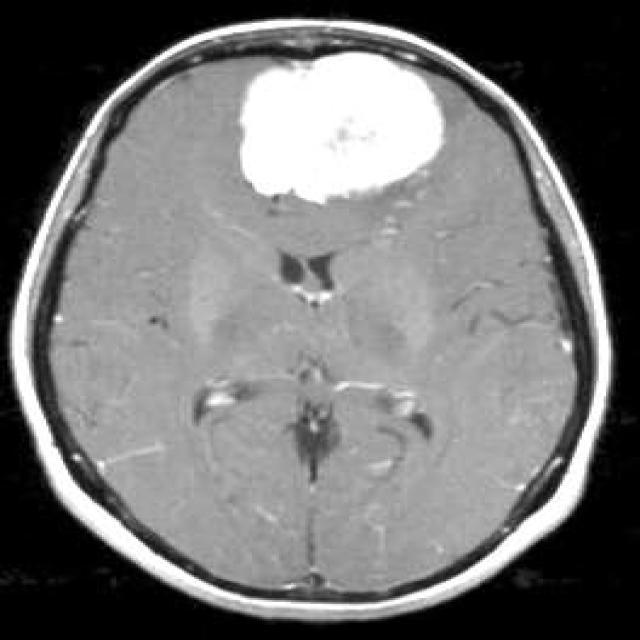Tumor: (238, 47, 450, 205)
